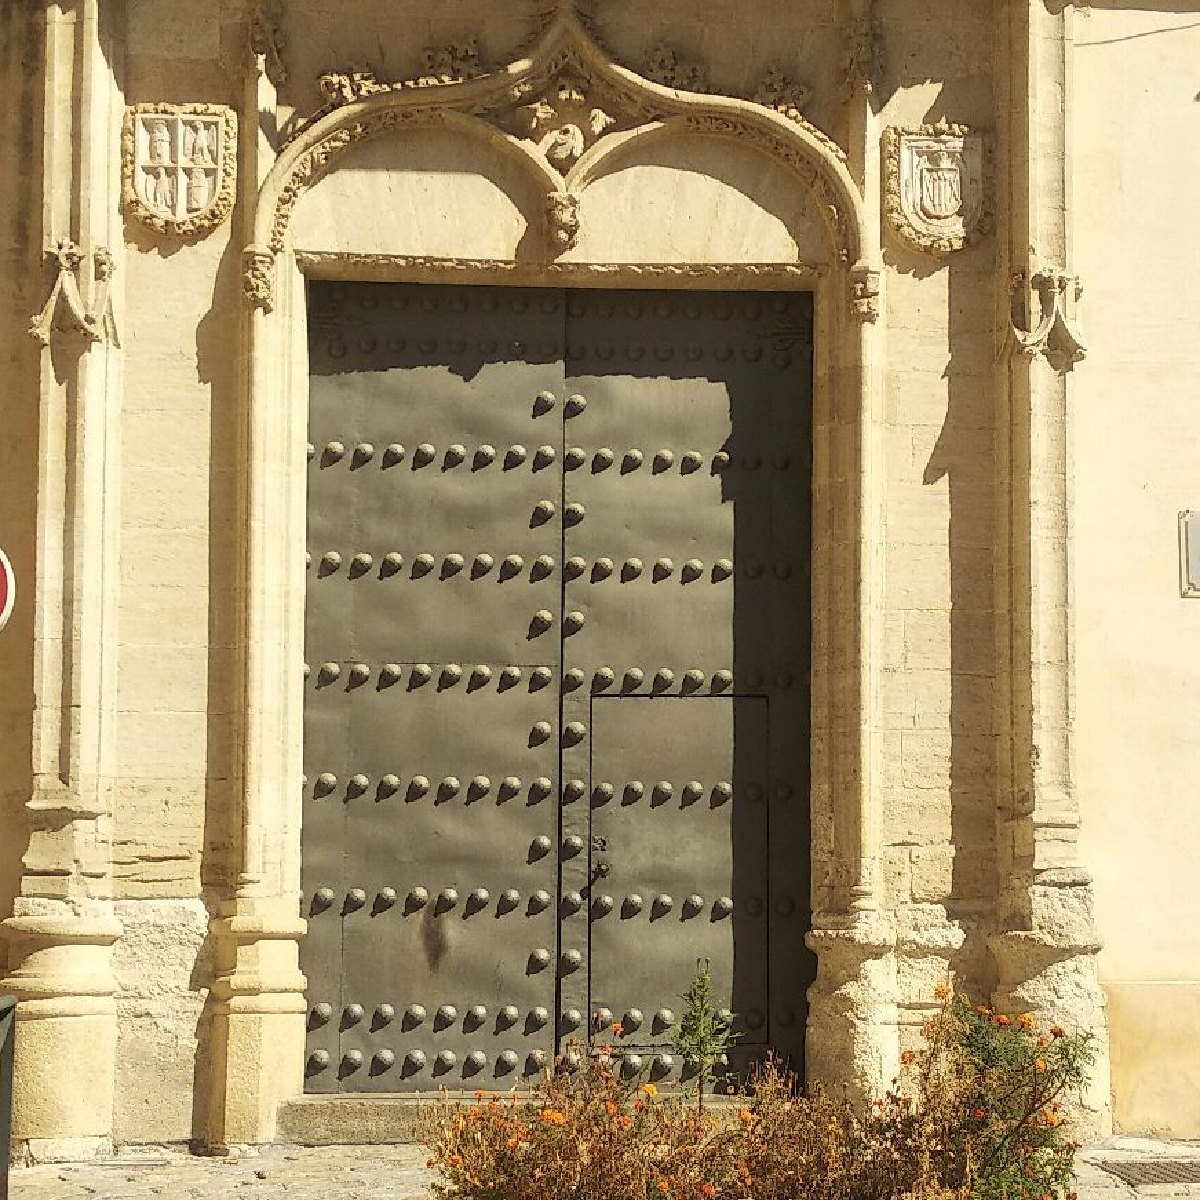arco-conopial: (296, 1, 863, 231)
